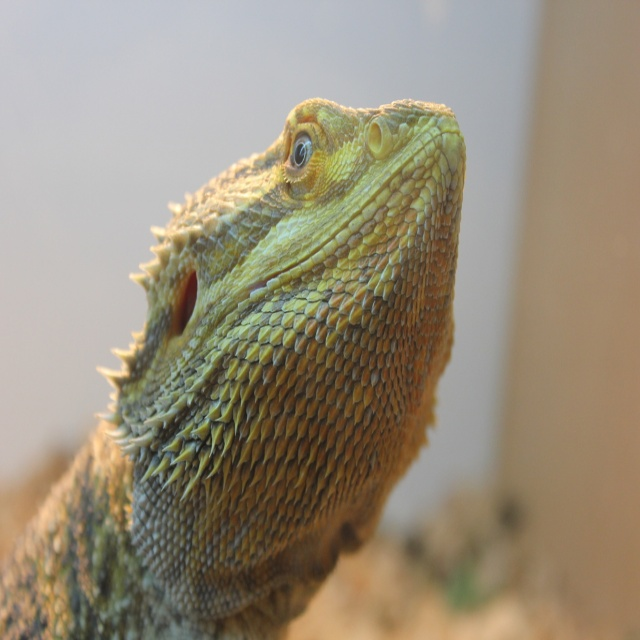Lizard: (0, 97, 468, 639)
